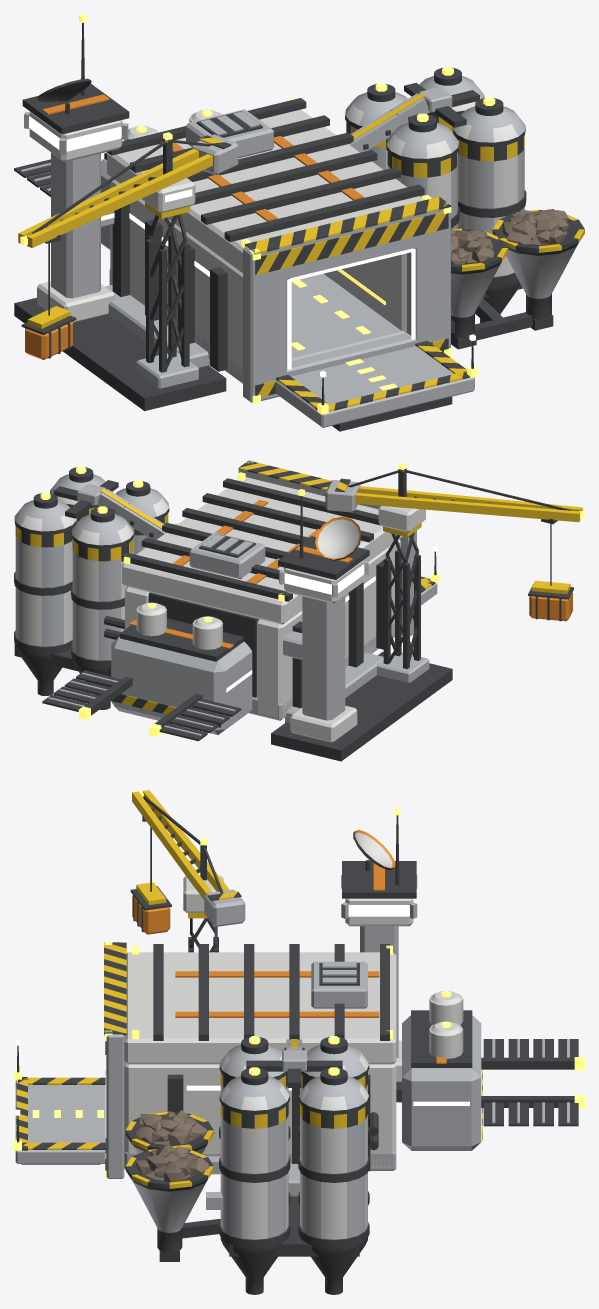
The model's file is mining_outpost.glb.
The picture shows the model from 3 angles, top to bottom: view 1: azimuth 30°, elevation 25°; view 2: azimuth 150°, elevation 25°; view 3: azimuth 270°, elevation 25°; orthographic projection. The views are drawn at different scales.
Visible parts, largest first — view 1: outpost_hangar, outpost_silos, outpost_structure, outpost_crane; view 2: outpost_structure, outpost_hangar, outpost_silos, outpost_crane; view 3: outpost_hangar, outpost_silos, outpost_structure, outpost_crane.
Part boxes in pixels (x1,y1,x2,y2): outpost_hangar: (107, 98, 478, 431); outpost_silos: (345, 67, 584, 349); outpost_structure: (14, 14, 226, 411); outpost_crane: (18, 132, 238, 388); outpost_structure: (42, 489, 452, 761); outpost_hangar: (121, 460, 440, 720); outpost_silos: (14, 466, 177, 709); outpost_crane: (325, 463, 584, 682); outpost_hangar: (14, 941, 396, 1178); outpost_silos: (125, 1036, 369, 1294); outpost_structure: (341, 807, 584, 1150); outpost_crane: (130, 790, 245, 952).
Bounding box in the file's own units: 55.82 × 31.85 × 50.4.
